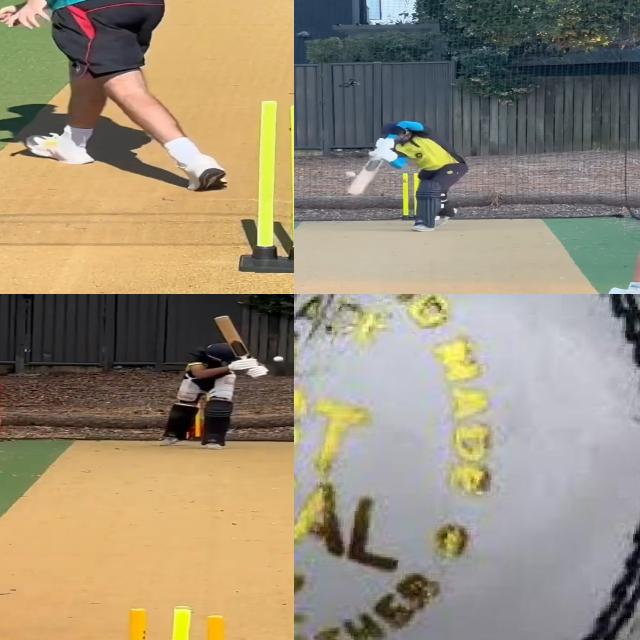Cricket ball: (294, 294, 640, 640), (344, 170, 359, 178), (272, 355, 286, 363)
Stumps: (240, 101, 294, 273)
